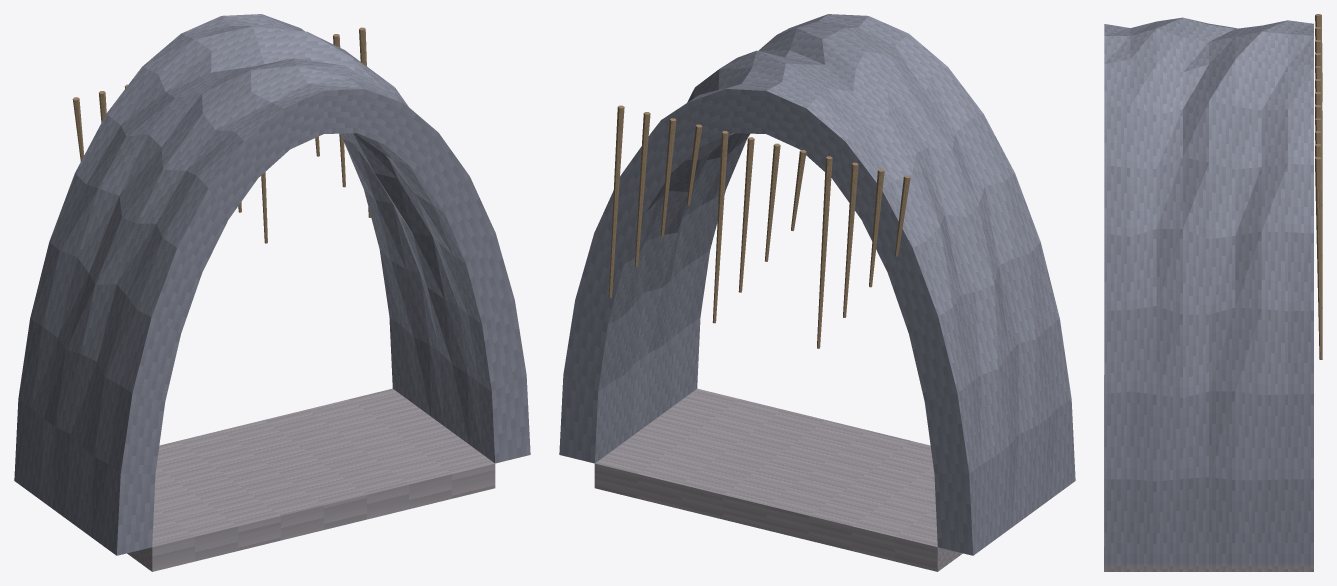
The model's file is cave-and-crystal-networks-overgrown-entrance-0dea2228.glb.
3 views of the same model, side by side, from view 1: azimuth 30°, elevation 25°; view 2: azimuth 150°, elevation 25°; view 3: azimuth 270°, elevation 25° (orthographic). The views are drawn at different scales.
Visible parts, largest first — view 1: overgrown-entrance; view 2: overgrown-entrance; view 3: overgrown-entrance.
Boxes of the visible parts, bbox=[...] form: overgrown-entrance: bbox=[14, 14, 530, 571]; overgrown-entrance: bbox=[559, 14, 1075, 571]; overgrown-entrance: bbox=[1104, 14, 1322, 571].
Bounding box in the file's own units: 3.5 × 3.61 × 1.56.
Materials: 3 (3 with a texture image).
